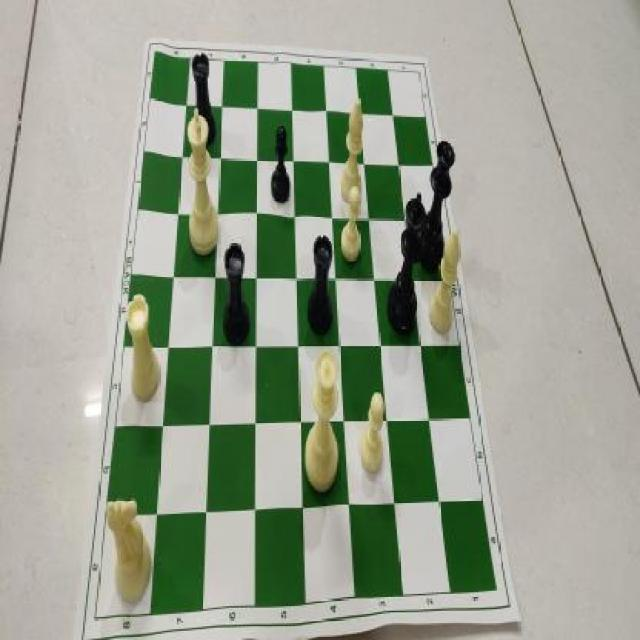black-king: (384, 193, 428, 338)
black-pawn: (270, 125, 291, 203)
black-queen: (417, 140, 456, 274)
black-rook: (222, 240, 252, 344), (306, 235, 336, 338), (192, 51, 217, 147)
white-bishop: (427, 230, 463, 335), (341, 96, 365, 204)
white-king: (187, 107, 218, 256)
white-knight: (105, 499, 153, 601)
white-pawn: (361, 393, 385, 472), (341, 186, 362, 260)
white-queen: (305, 352, 339, 490)
white-rook: (125, 293, 160, 402)
